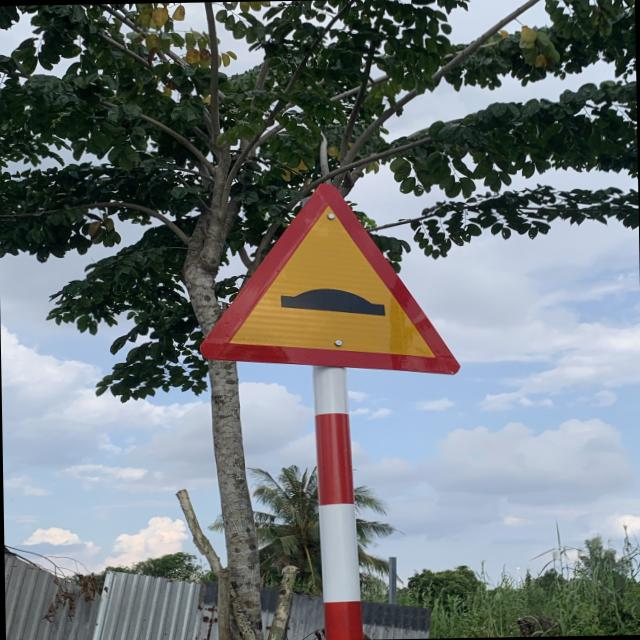Duong_Cong_Ben_Phai: (197, 180, 459, 380)
